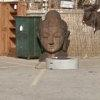Statue: (35, 5, 75, 71)
